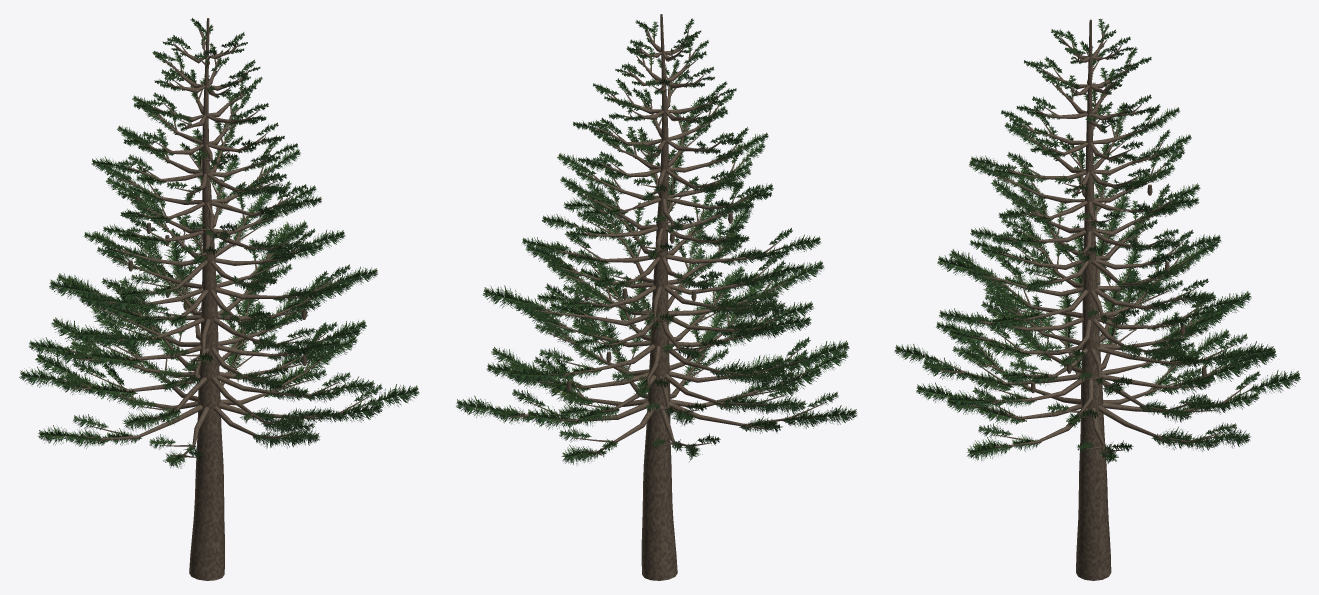
File: ProjectZ_PINE10_Conifer_Summer_LOD0.glb
3 views of the same model, side by side, from view 1: azimuth 30°, elevation 25°; view 2: azimuth 150°, elevation 25°; view 3: azimuth 270°, elevation 25° (orthographic).
Visible parts, largest first — view 1: Trunk_Main_10m_Bark, NeedleClusters_00_AlphaMask, NeedleClusters_01_AlphaMask, NeedleClusters_04_AlphaMask, NeedleClusters_02_AlphaMask, NeedleClusters_03_AlphaMask, NeedleClusters_05_AlphaMask, NeedleClusters_06_AlphaMask, NeedleClusters_07_AlphaMask, NeedleClusters_08_AlphaMask, Branches_00_Z3.05m_Bark, Branches_01_Z3.57m_Bark (+14 smaller); view 2: NeedleClusters_00_AlphaMask, Trunk_Main_10m_Bark, NeedleClusters_01_AlphaMask, NeedleClusters_03_AlphaMask, NeedleClusters_02_AlphaMask, NeedleClusters_04_AlphaMask, NeedleClusters_05_AlphaMask, NeedleClusters_07_AlphaMask, NeedleClusters_06_AlphaMask, Branches_00_Z3.05m_Bark, NeedleClusters_08_AlphaMask, Branches_01_Z3.57m_Bark (+14 smaller); view 3: NeedleClusters_00_AlphaMask, Trunk_Main_10m_Bark, NeedleClusters_01_AlphaMask, NeedleClusters_02_AlphaMask, NeedleClusters_04_AlphaMask, NeedleClusters_03_AlphaMask, NeedleClusters_05_AlphaMask, NeedleClusters_06_AlphaMask, NeedleClusters_08_AlphaMask, NeedleClusters_07_AlphaMask, Branches_00_Z3.05m_Bark, Branches_01_Z3.57m_Bark (+14 smaller).
Part boxes in pixels (x1,y1,x2,y2): Trunk_Main_10m_Bark: (189, 18, 224, 580); NeedleClusters_00_AlphaMask: (35, 292, 419, 468); NeedleClusters_01_AlphaMask: (19, 276, 374, 436); NeedleClusters_04_AlphaMask: (49, 211, 377, 332); NeedleClusters_02_AlphaMask: (29, 241, 359, 392); NeedleClusters_03_AlphaMask: (57, 221, 358, 374); NeedleClusters_05_AlphaMask: (83, 189, 345, 302); NeedleClusters_06_AlphaMask: (103, 154, 316, 266); NeedleClusters_07_AlphaMask: (95, 128, 321, 240); NeedleClusters_08_AlphaMask: (91, 122, 297, 202); Branches_00_Z3.05m_Bark: (75, 321, 373, 457); Branches_01_Z3.57m_Bark: (59, 301, 337, 424); NeedleClusters_00_AlphaMask: (456, 294, 857, 465); Trunk_Main_10m_Bark: (641, 14, 677, 580); NeedleClusters_01_AlphaMask: (486, 274, 849, 426); NeedleClusters_03_AlphaMask: (483, 229, 824, 360); NeedleClusters_02_AlphaMask: (508, 264, 813, 399); NeedleClusters_04_AlphaMask: (525, 196, 804, 329); NeedleClusters_05_AlphaMask: (522, 180, 820, 290); NeedleClusters_07_AlphaMask: (557, 127, 771, 233); NeedleClusters_06_AlphaMask: (542, 153, 773, 260); Branches_00_Z3.05m_Bark: (498, 324, 823, 455); NeedleClusters_08_AlphaMask: (578, 95, 768, 203); Branches_01_Z3.57m_Bark: (530, 302, 806, 414); NeedleClusters_00_AlphaMask: (916, 290, 1300, 463); Trunk_Main_10m_Bark: (1076, 19, 1111, 580); NeedleClusters_01_AlphaMask: (894, 269, 1276, 427); NeedleClusters_02_AlphaMask: (936, 249, 1275, 396); NeedleClusters_04_AlphaMask: (937, 194, 1218, 330); NeedleClusters_03_AlphaMask: (939, 223, 1237, 368); NeedleClusters_05_AlphaMask: (969, 179, 1221, 294); NeedleClusters_06_AlphaMask: (970, 164, 1200, 262); NeedleClusters_08_AlphaMask: (970, 102, 1191, 198); NeedleClusters_07_AlphaMask: (969, 133, 1199, 229); Branches_00_Z3.05m_Bark: (963, 318, 1254, 454); Branches_01_Z3.57m_Bark: (933, 298, 1233, 417).
Size of the model in its own units: 6.52 by 10.01 by 6.78.
Materials: 3 (3 with a texture image).
